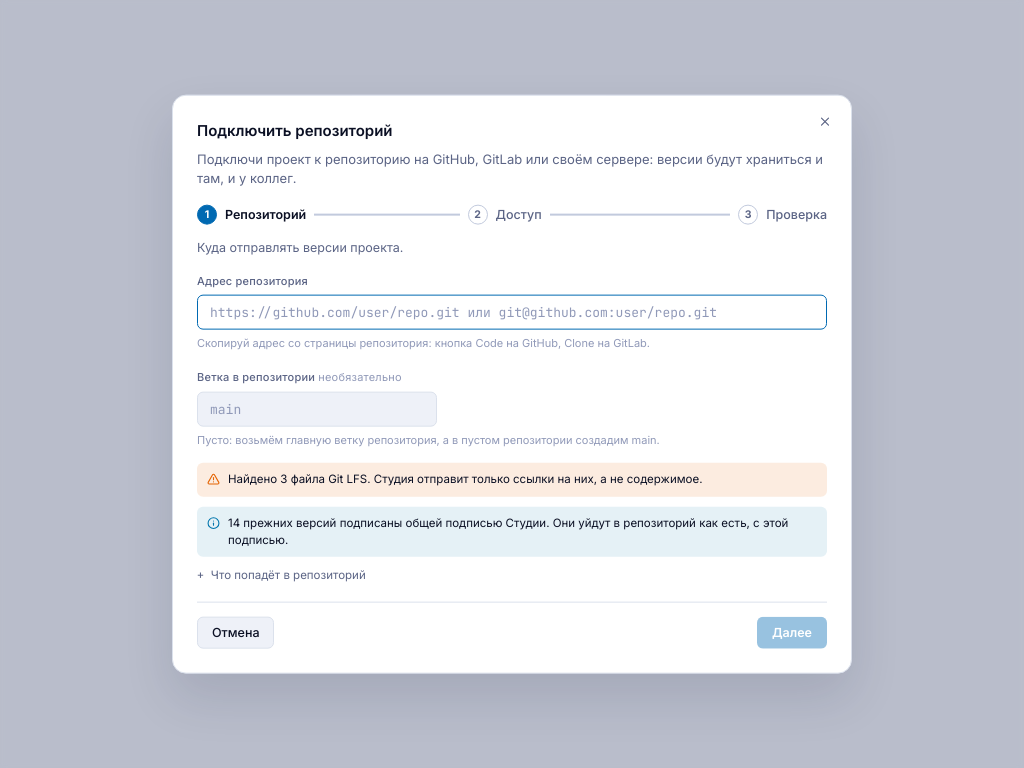
ConnectRemoteDialog: шаг «Репозиторий» › предупреждает про прежние версии без автора, LFS и показывает состав
The width and height of the screenshot is (1024, 768).
Expected: the text "14 прежних версий подписаны общей подписью" is shown, top-left (228, 515), bottom-right (788, 546)
Expected: the text "Найдено 3 файла Git LFS" is shown, top-left (228, 472), bottom-right (702, 486)
Click the heading "Что попадёт в репозиторий" at (288, 575), box top-left (211, 568), bottom-right (366, 582)
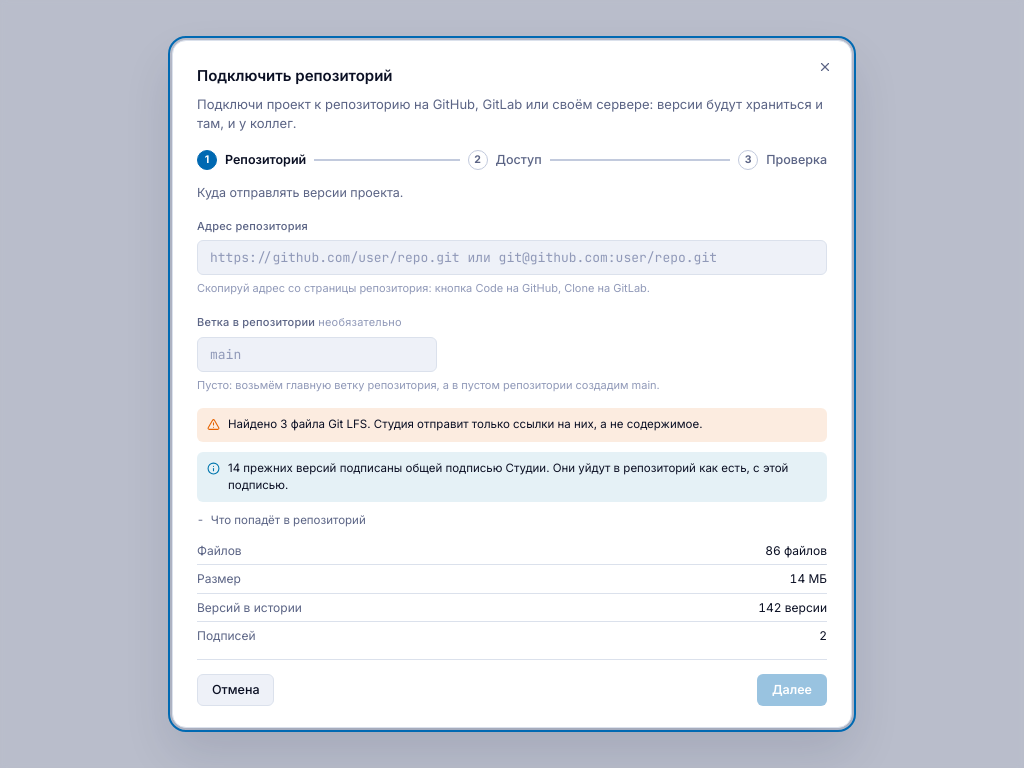
Expected: the element with test id "contents-details" shows "86 файлов", top-left (765, 543), bottom-right (827, 558)
Expected: the element with test id "contents-details" shows "142 версии", top-left (758, 600), bottom-right (827, 614)
